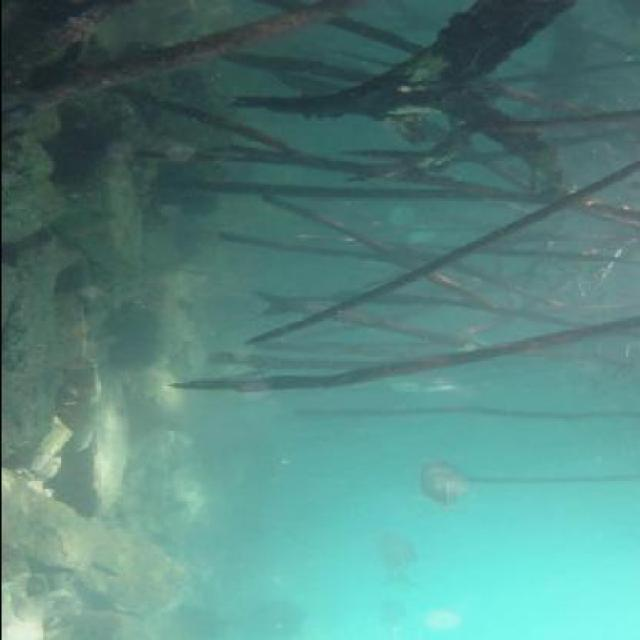Caranx_sexfasciatus_juvenile: (402, 458, 480, 519), (359, 535, 421, 590), (367, 372, 431, 394), (423, 377, 477, 401)
